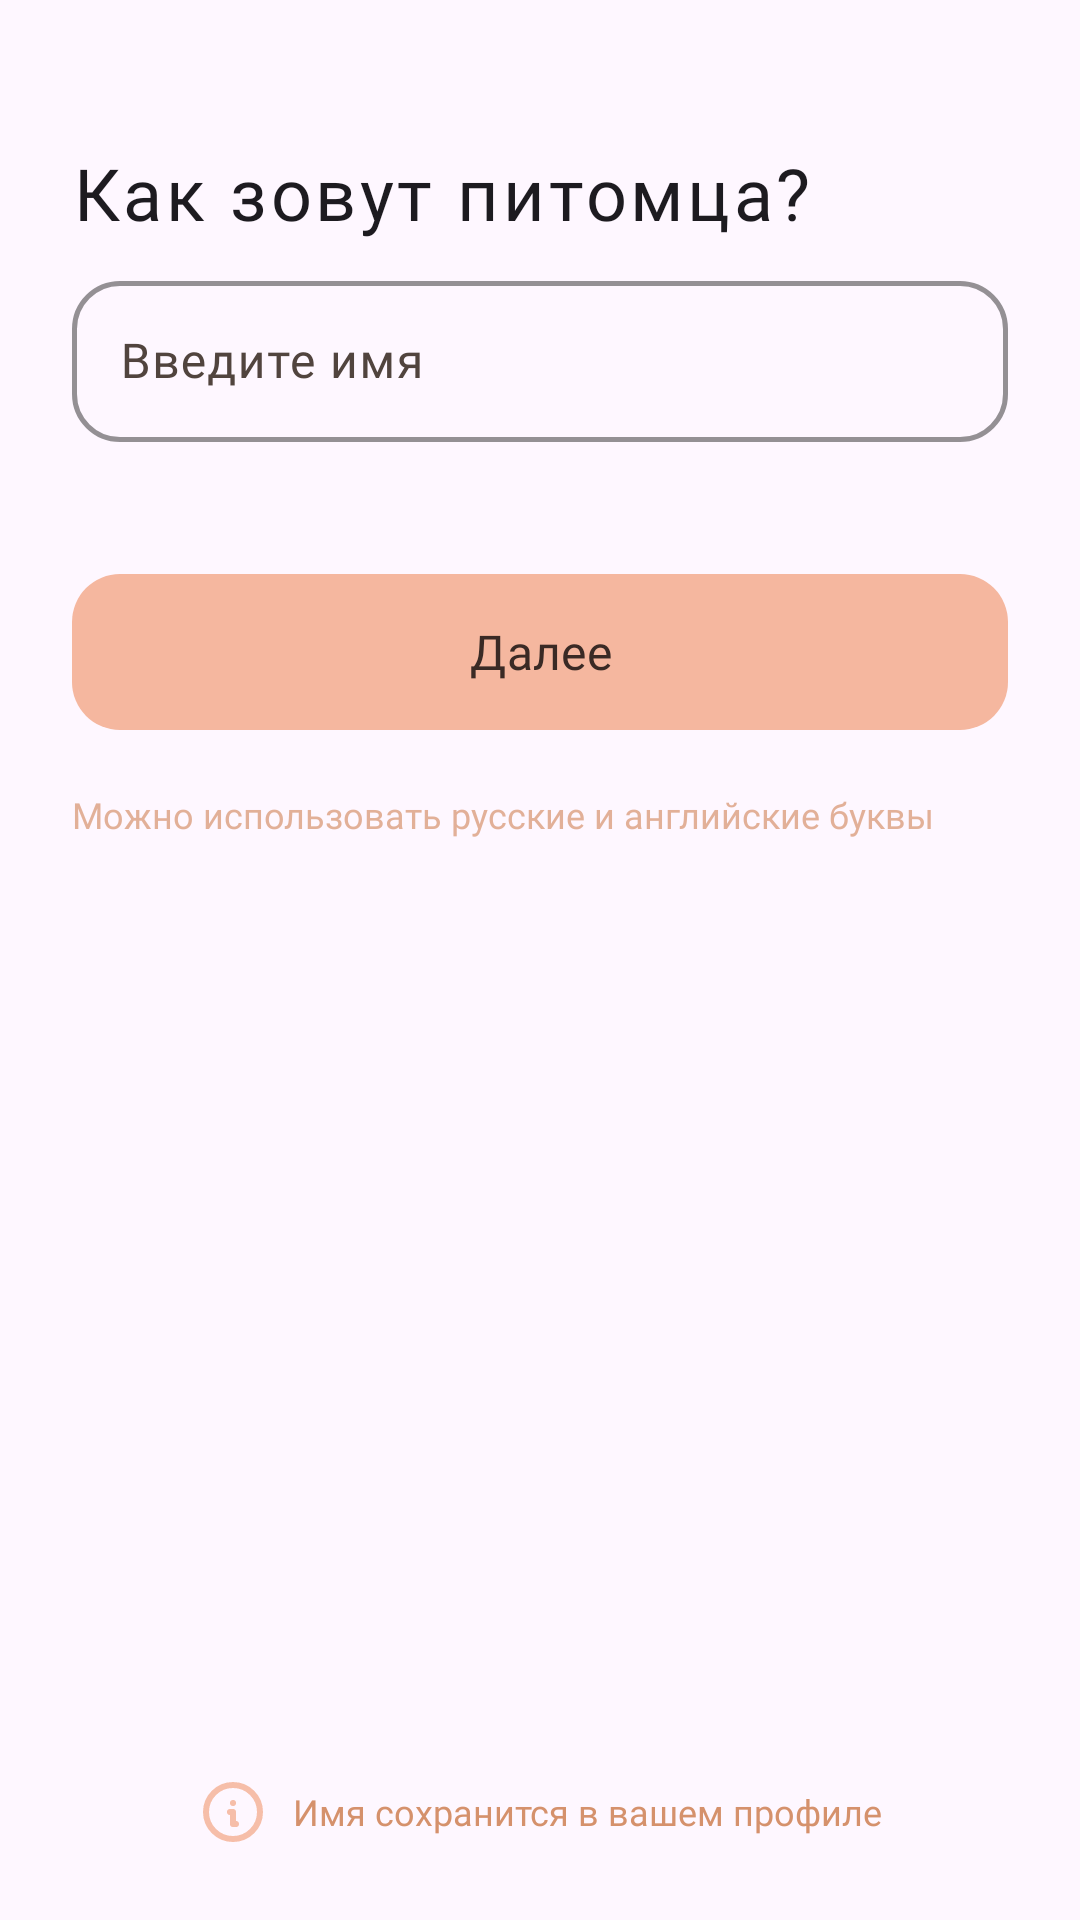

Where icons sit on this 1080×1920 app screen, as box=[x1, y1, x2, y2]:
Информация: box=[203, 1782, 263, 1842]
